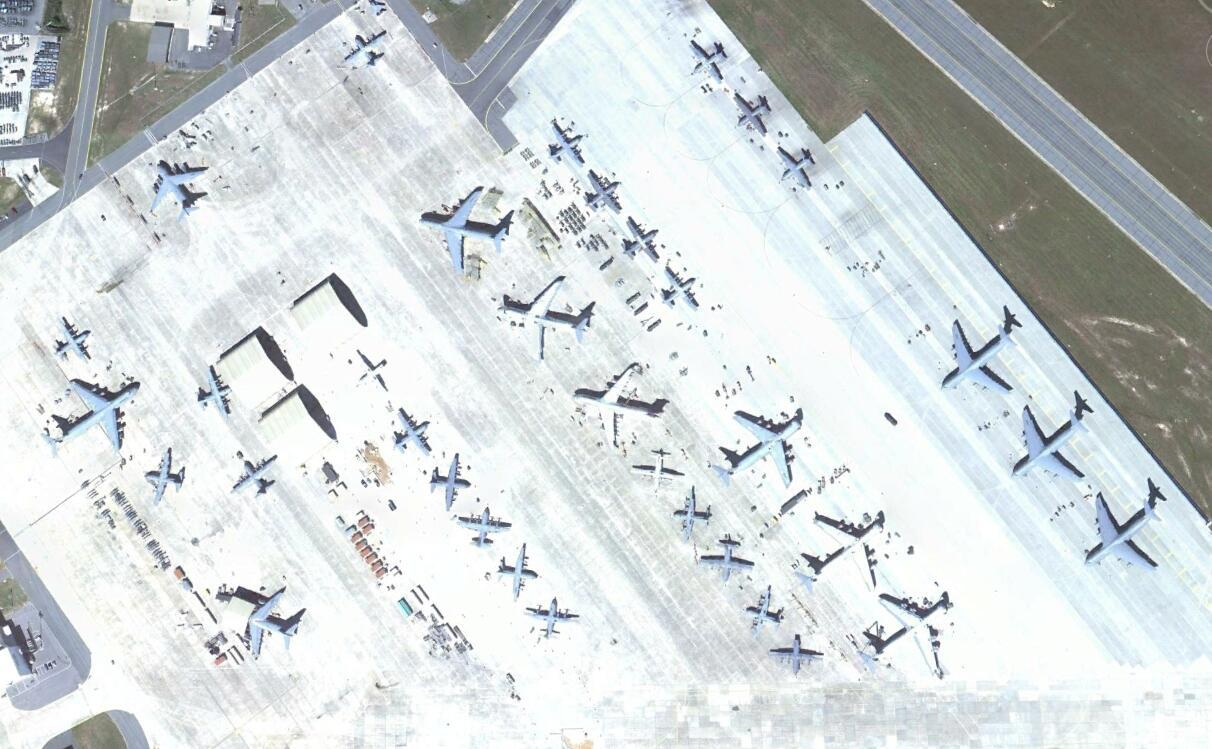A13: (175, 127, 196, 149), (366, 0, 387, 15)
A2: (497, 542, 540, 603), (430, 453, 470, 510), (545, 119, 587, 172), (660, 263, 704, 313), (458, 506, 510, 548), (702, 539, 753, 581), (393, 407, 437, 455), (774, 633, 824, 675), (197, 363, 234, 419), (686, 37, 730, 84), (631, 450, 683, 489), (744, 587, 783, 639), (228, 455, 280, 493), (527, 601, 579, 639), (732, 89, 773, 137), (673, 489, 710, 542), (341, 29, 391, 68), (147, 449, 184, 501), (621, 216, 662, 262), (583, 172, 626, 215), (774, 144, 815, 189), (52, 316, 88, 362), (356, 354, 393, 397)
A3: (145, 155, 211, 216)
A4: (863, 587, 957, 681), (498, 274, 595, 363), (422, 184, 513, 274), (570, 362, 665, 448), (795, 513, 892, 594), (45, 377, 147, 450), (710, 410, 806, 487), (1082, 489, 1161, 571), (1010, 402, 1086, 485), (939, 316, 1018, 393)
